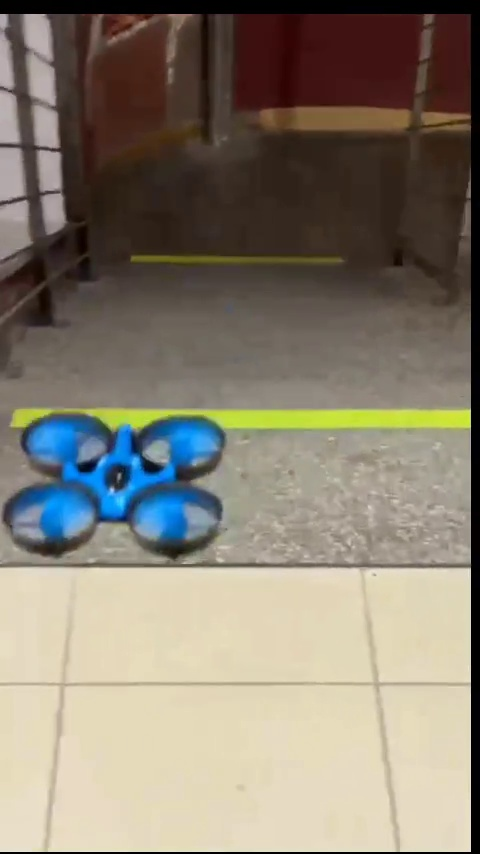drone: (12, 408, 227, 556)
